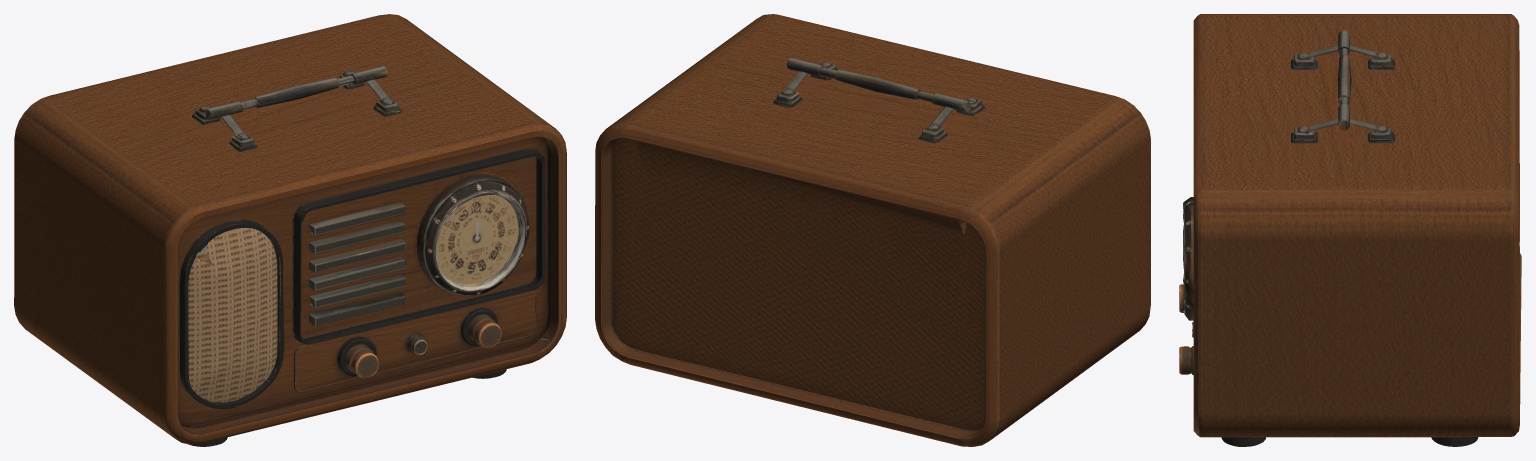
File: tube_radio.glb
The picture shows the model from 3 angles, left to right: view 1: azimuth 30°, elevation 25°; view 2: azimuth 150°, elevation 25°; view 3: azimuth 270°, elevation 25°; orthographic projection. The views are drawn at different scales.
Bounding box in the file's own units: 0.5 × 0.3349 × 0.3542.
1 material, 1 textured.
